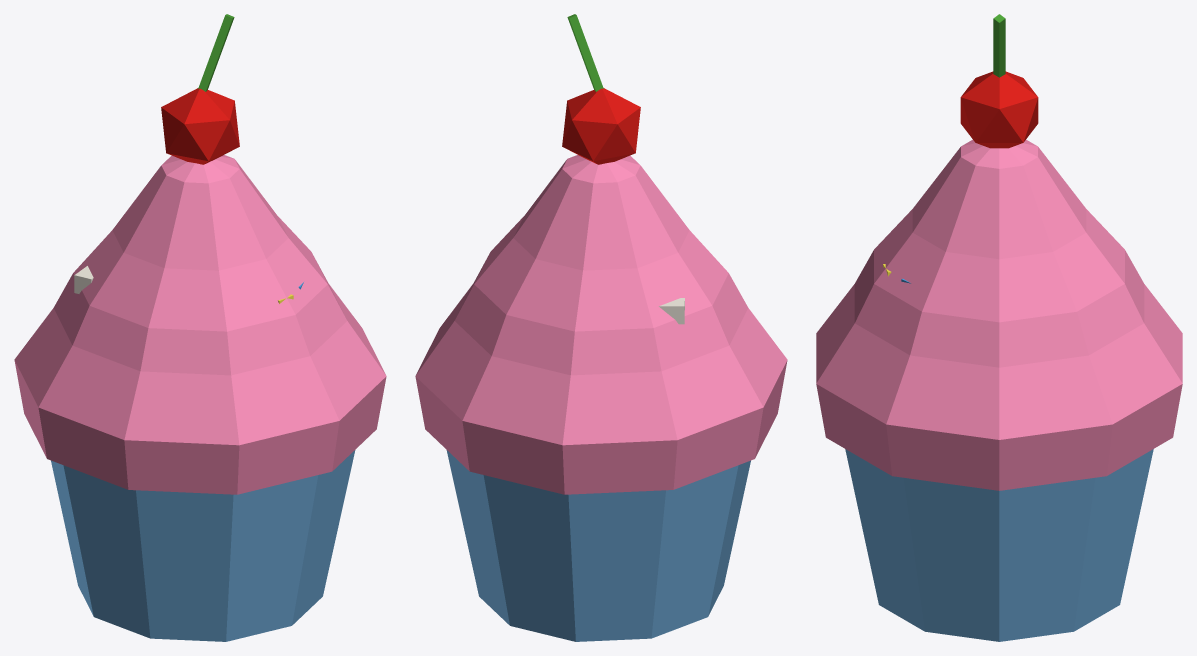
The model's file is cupcake.glb.
The picture shows the model from 3 angles, left to right: view 1: azimuth 30°, elevation 25°; view 2: azimuth 150°, elevation 25°; view 3: azimuth 270°, elevation 25°; orthographic projection. The views are drawn at different scales.
Visible parts, largest first — view 1: cupcake; view 2: cupcake; view 3: cupcake.
Part boxes in pixels (bbox=[...]): cupcake: bbox=[14, 14, 386, 641]; cupcake: bbox=[415, 14, 787, 641]; cupcake: bbox=[816, 14, 1182, 641].
Size of the model in its own units: 0.076 by 0.1277 by 0.0723.
